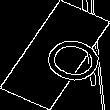O_NW: (14, 24, 96, 86)
